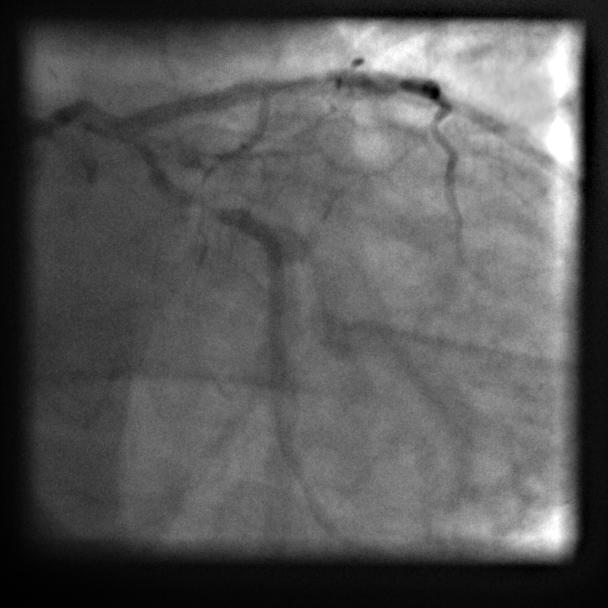Stenosis: (192, 192, 227, 218)
